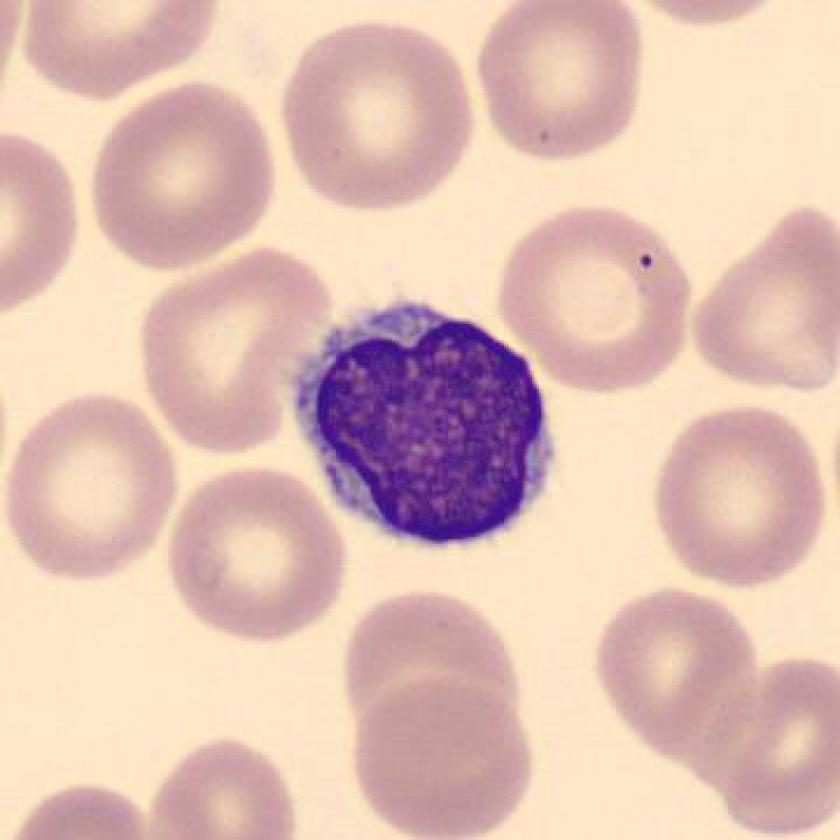lymphocyte: (283, 288, 573, 561)
